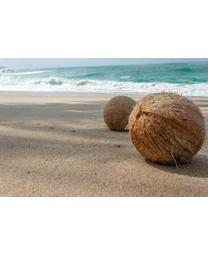coconut: (126, 92, 203, 168), (101, 92, 136, 136)
